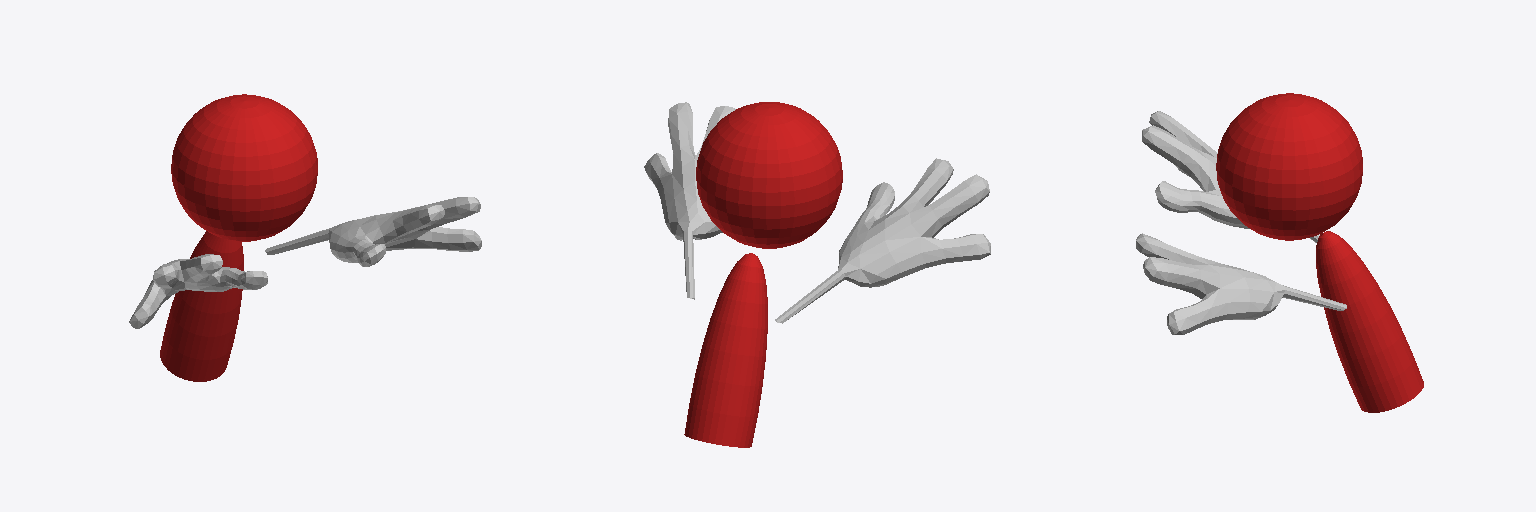
Rendered from keeper_red.obj.
3 views of the same model, side by side, from view 1: azimuth 30°, elevation 25°; view 2: azimuth 150°, elevation 25°; view 3: azimuth 270°, elevation 25° (orthographic).
Parts seen in each view (by area): view 1: Sphere_Sphere.001, Sphere.001_Sphere.002, hand.001_hand.003, hand.000_hand.006; view 2: Sphere_Sphere.001, hand.000_hand.006, Sphere.001_Sphere.002, hand.001_hand.003; view 3: Sphere_Sphere.001, Sphere.001_Sphere.002, hand.001_hand.003, hand.000_hand.006.
Boxes of the visible parts, <box> form: Sphere_Sphere.001: <box>171,94,317,241</box>; Sphere.001_Sphere.002: <box>160,231,243,381</box>; hand.001_hand.003: <box>265,197,481,266</box>; hand.000_hand.006: <box>129,254,267,328</box>; Sphere_Sphere.001: <box>696,102,842,248</box>; hand.000_hand.006: <box>775,158,990,323</box>; Sphere.001_Sphere.002: <box>684,253,767,447</box>; hand.001_hand.003: <box>644,102,735,299</box>; Sphere_Sphere.001: <box>1216,93,1362,240</box>; Sphere.001_Sphere.002: <box>1316,231,1423,412</box>; hand.001_hand.003: <box>1136,233,1346,334</box>; hand.000_hand.006: <box>1142,111,1319,242</box>.
Size of the model in its own units: 5.46 by 4.57 by 3.91.